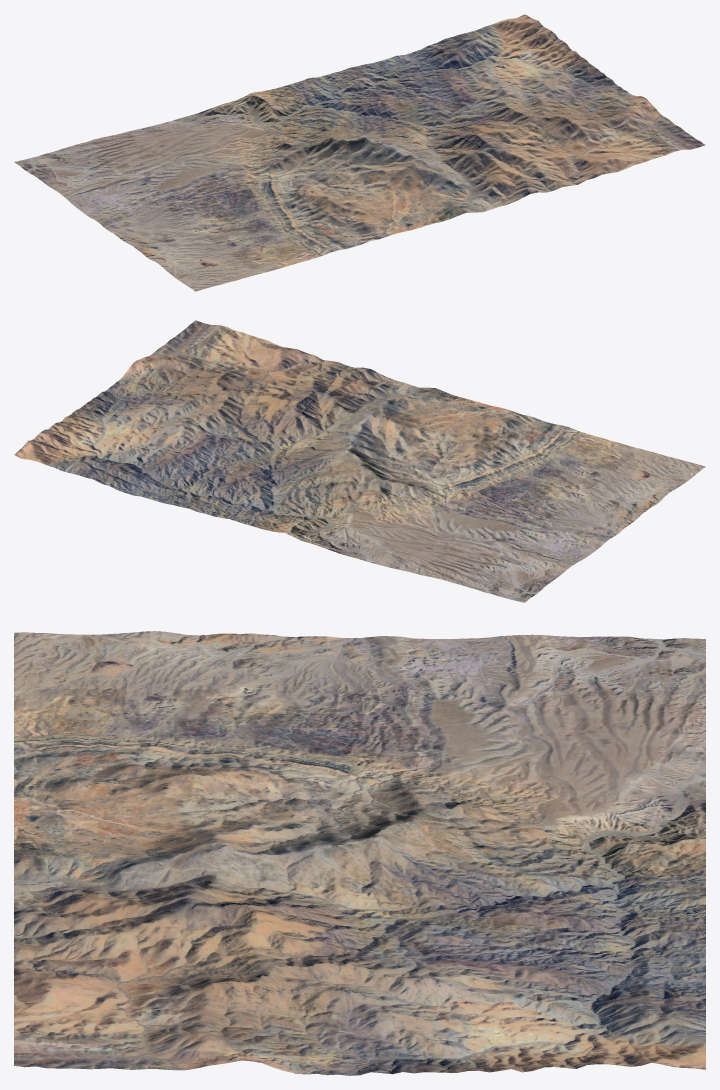
File: terrain.glb
3 renders of one model, top to bottom at view 1: azimuth 30°, elevation 25°; view 2: azimuth 150°, elevation 25°; view 3: azimuth 270°, elevation 25°, orthographic. The views are drawn at different scales.
Parts seen in each view (by area): view 1: EXPORT_GOOGLE_SAT_WM; view 2: EXPORT_GOOGLE_SAT_WM; view 3: EXPORT_GOOGLE_SAT_WM.
Part boxes in pixels (box(x1,y1,x2,y2)): EXPORT_GOOGLE_SAT_WM: box(14, 14, 705, 291); EXPORT_GOOGLE_SAT_WM: box(14, 320, 705, 602); EXPORT_GOOGLE_SAT_WM: box(14, 631, 705, 1075).
Bounding box in the file's own units: 31798 × 1832 × 19568.
Materials: 1 (1 with a texture image).
